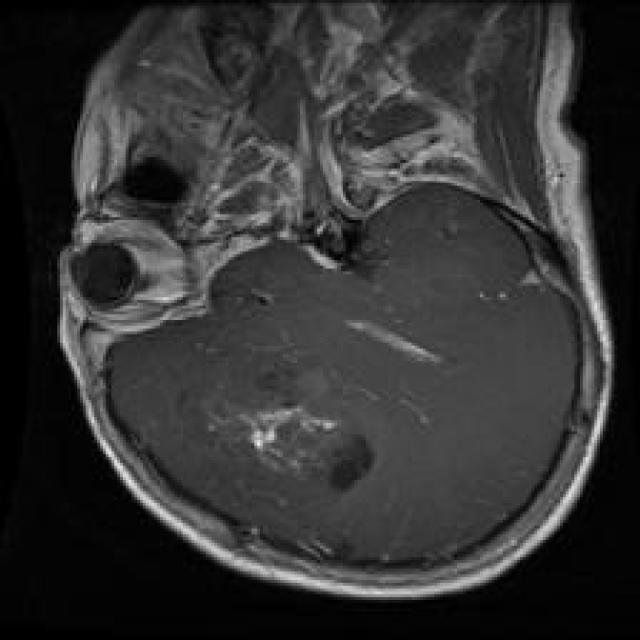glioma_tumor: (164, 365, 391, 519)
